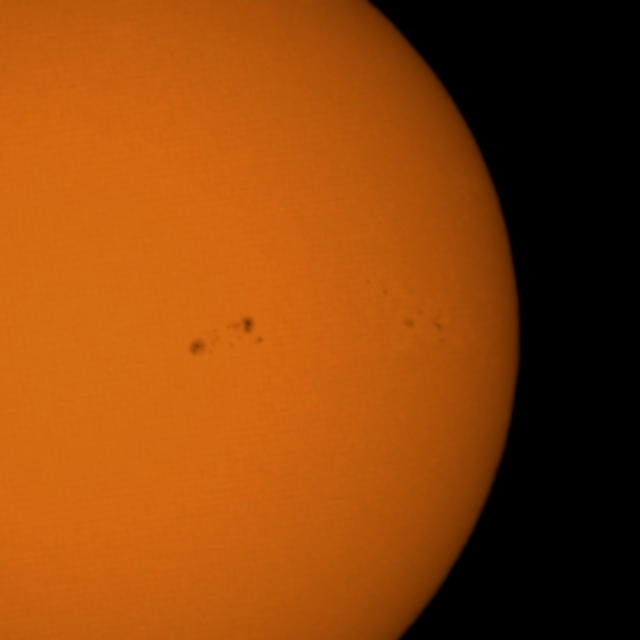sunspot: (185, 320, 254, 357), (218, 314, 265, 350), (401, 307, 444, 336), (401, 308, 423, 332), (432, 319, 446, 343), (381, 287, 390, 298), (363, 277, 372, 287)
